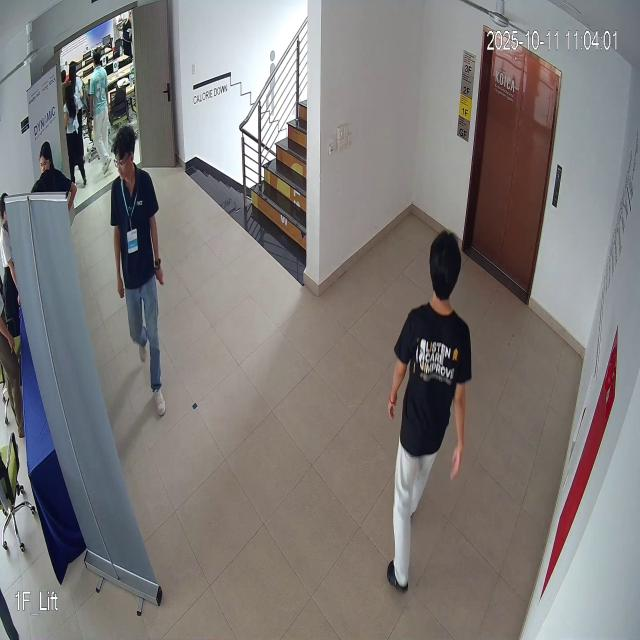face: (105, 122, 142, 188)
